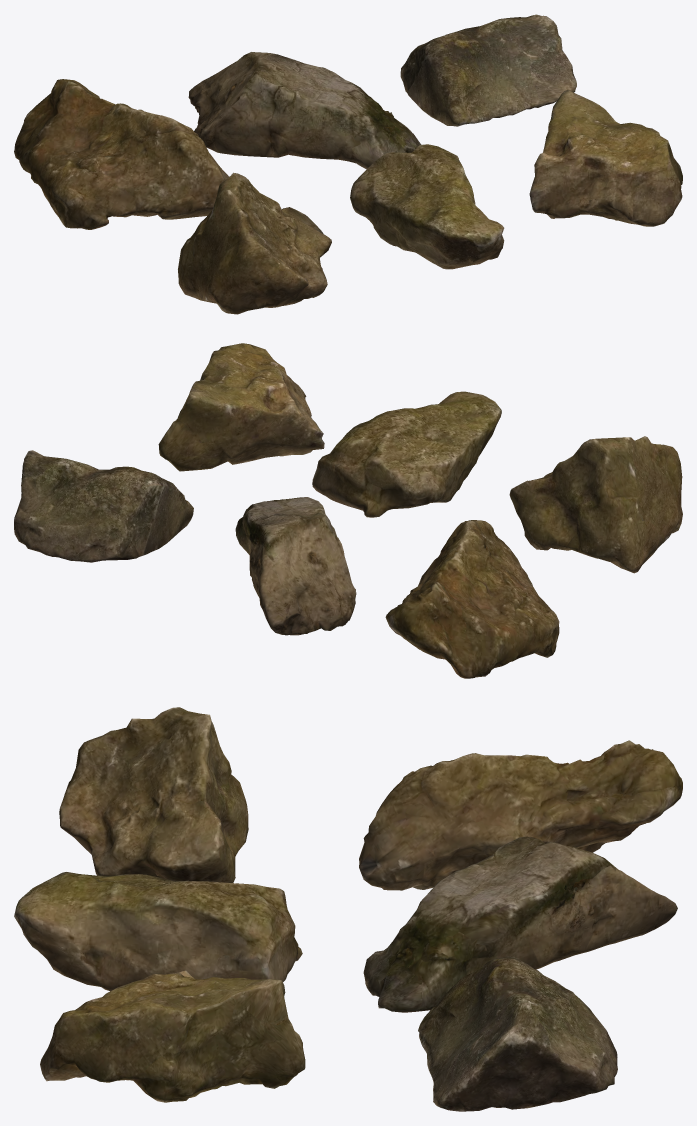
Rendered from rock_moss.glb.
3 renders of one model, top to bottom at view 1: azimuth 30°, elevation 25°; view 2: azimuth 150°, elevation 25°; view 3: azimuth 270°, elevation 25°, orthographic. The views are drawn at different scales.
Parts seen in each view (by area): view 1: rock_moss_set_01_rock01; view 2: rock_moss_set_01_rock01; view 3: rock_moss_set_01_rock01.
Part boxes in pixels (x1,y1,x2,y2): rock_moss_set_01_rock01: [14, 14, 682, 314]; rock_moss_set_01_rock01: [14, 343, 682, 678]; rock_moss_set_01_rock01: [14, 707, 682, 1111].
Bounding box in the file's own units: 8 × 1.76 × 6.94.
Materials: 1 (1 with a texture image).
